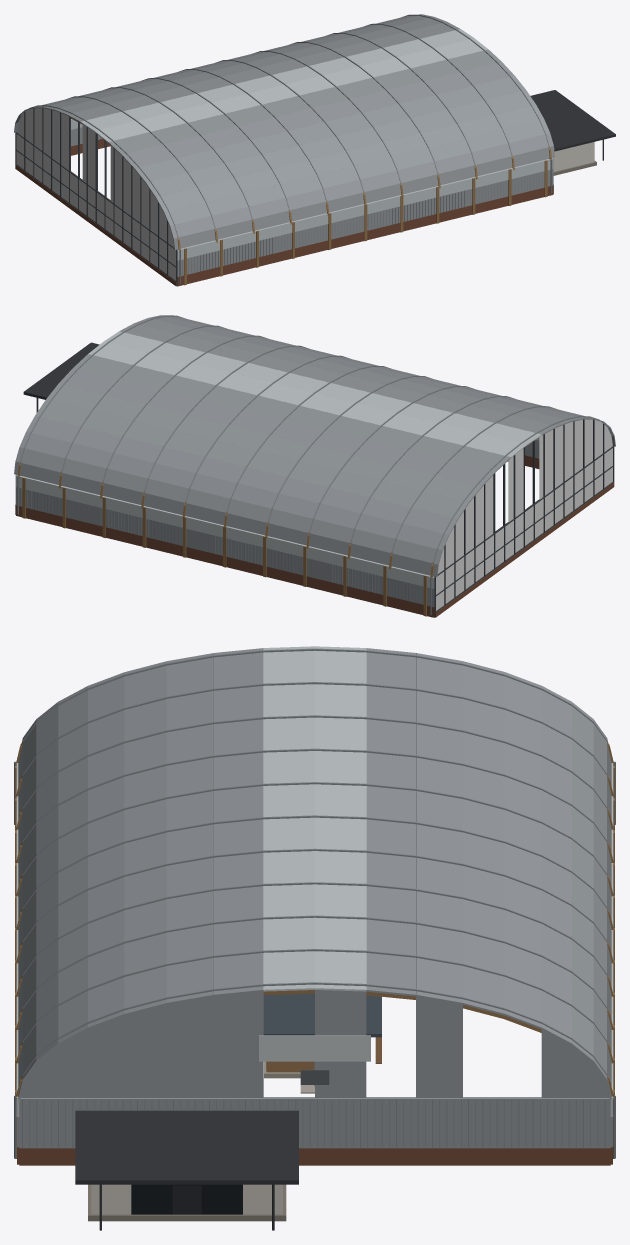
The model's file is details.glb.
The picture shows the model from 3 angles, top to bottom: view 1: azimuth 30°, elevation 25°; view 2: azimuth 150°, elevation 25°; view 3: azimuth 270°, elevation 25°; orthographic projection. The views are drawn at different scales.
Parts seen in each view (by area): view 1: tennishalle, tennishalle_glas; view 2: tennishalle, tennishalle_glas; view 3: tennishalle, umkleide.
Boxes of the visible parts, x1,y1,x2,y2 form: tennishalle: (14, 14, 615, 286); tennishalle_glas: (16, 108, 175, 280); tennishalle: (14, 315, 615, 617); tennishalle_glas: (436, 419, 612, 610); tennishalle: (14, 646, 615, 1230); umkleide: (263, 993, 381, 1093).
Size of the model in its own units: 60.75 by 12.45 by 37.66.
